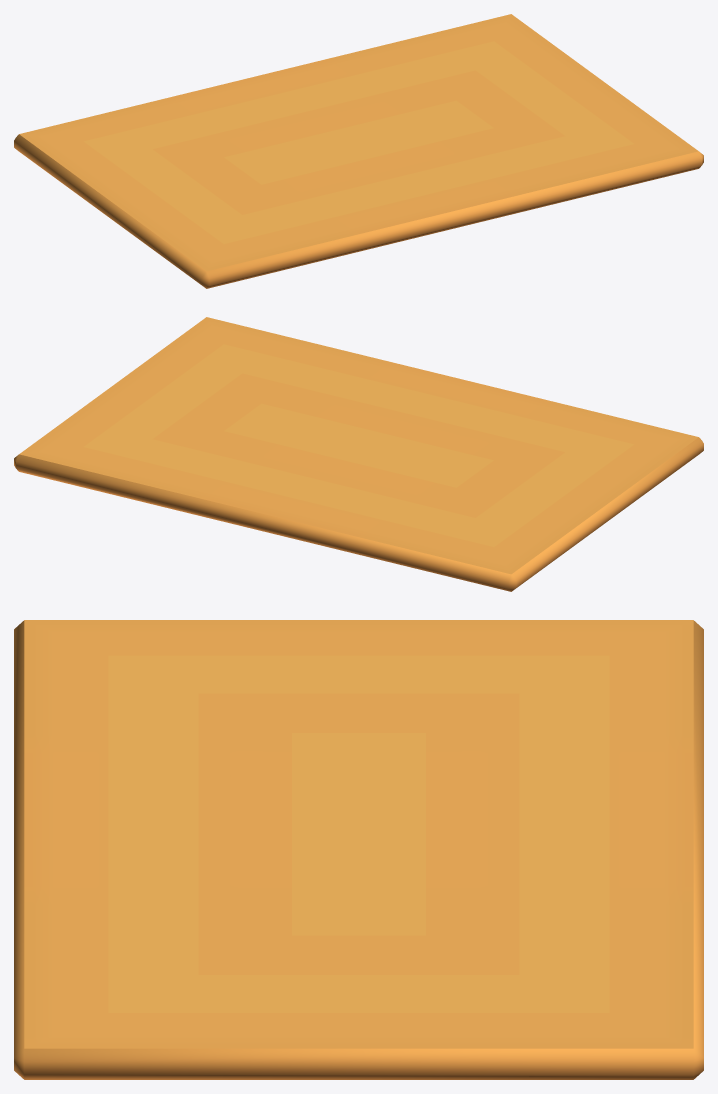
File: rug_rectangle_stripes_A.glb
3 renders of one model, top to bottom at view 1: azimuth 30°, elevation 25°; view 2: azimuth 150°, elevation 25°; view 3: azimuth 270°, elevation 25°, orthographic. The views are drawn at different scales.
Parts seen in each view (by area): view 1: rug_rectangle_stripes_A; view 2: rug_rectangle_stripes_A; view 3: rug_rectangle_stripes_A.
Part boxes in pixels (box(x1,y1,x2,y2)): rug_rectangle_stripes_A: box(14, 14, 703, 288); rug_rectangle_stripes_A: box(14, 317, 703, 591); rug_rectangle_stripes_A: box(14, 620, 703, 1079).
Bounding box in the file's own units: 3 × 0.1 × 2.
Materials: 1 (1 with a texture image).
